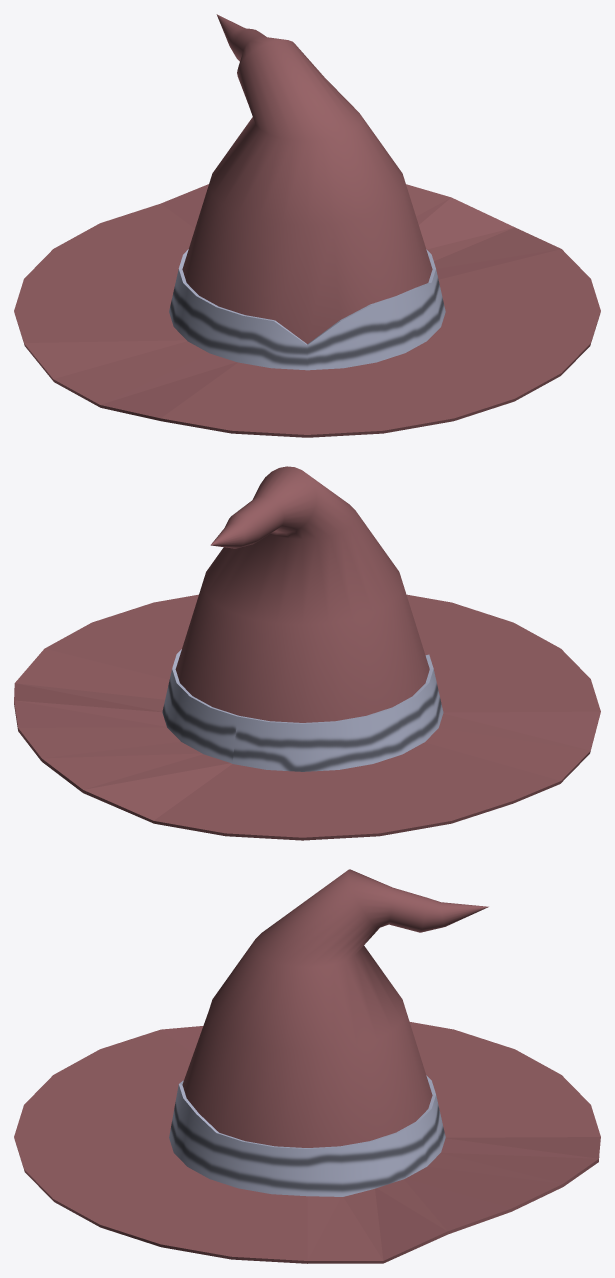
File: Witch_Hat.fbx
3 views of the same model, one above another, from view 1: azimuth 30°, elevation 25°; view 2: azimuth 150°, elevation 25°; view 3: azimuth 270°, elevation 25° (orthographic).
Parts seen in each view (by area): view 1: Cone001; view 2: Cone001; view 3: Cone001.
Boxes of the visible parts, bbox=[...] form: Cone001: bbox=[14, 14, 600, 437]; Cone001: bbox=[14, 466, 600, 840]; Cone001: bbox=[14, 869, 600, 1263].
Size of the model in its own units: 45.2 by 22.75 by 45.2.
Materials: 1 (1 with a texture image).
